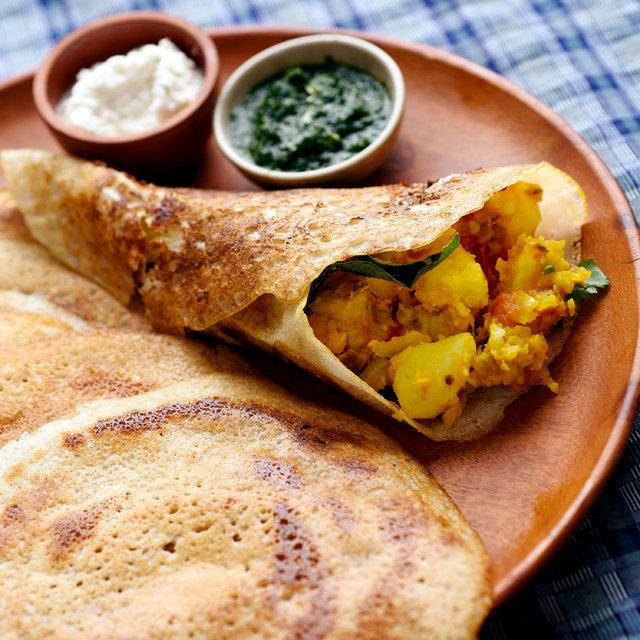DOSA: (1, 148, 582, 435), (1, 380, 493, 639)
